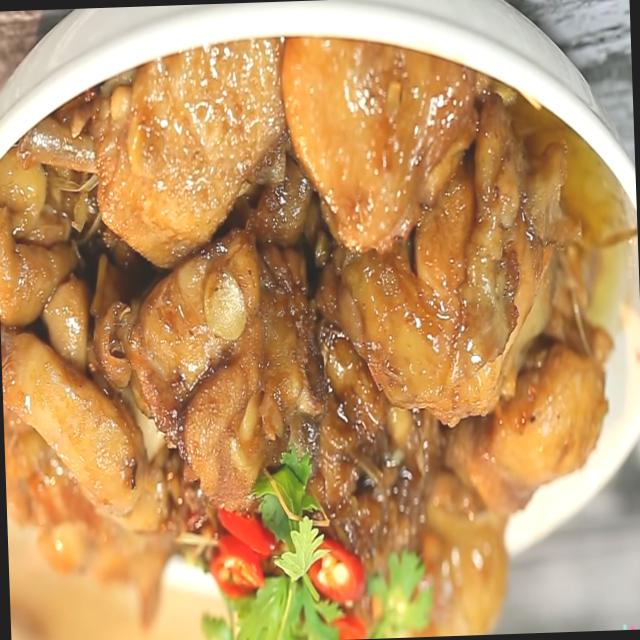ga kho: (0, 38, 634, 640)
